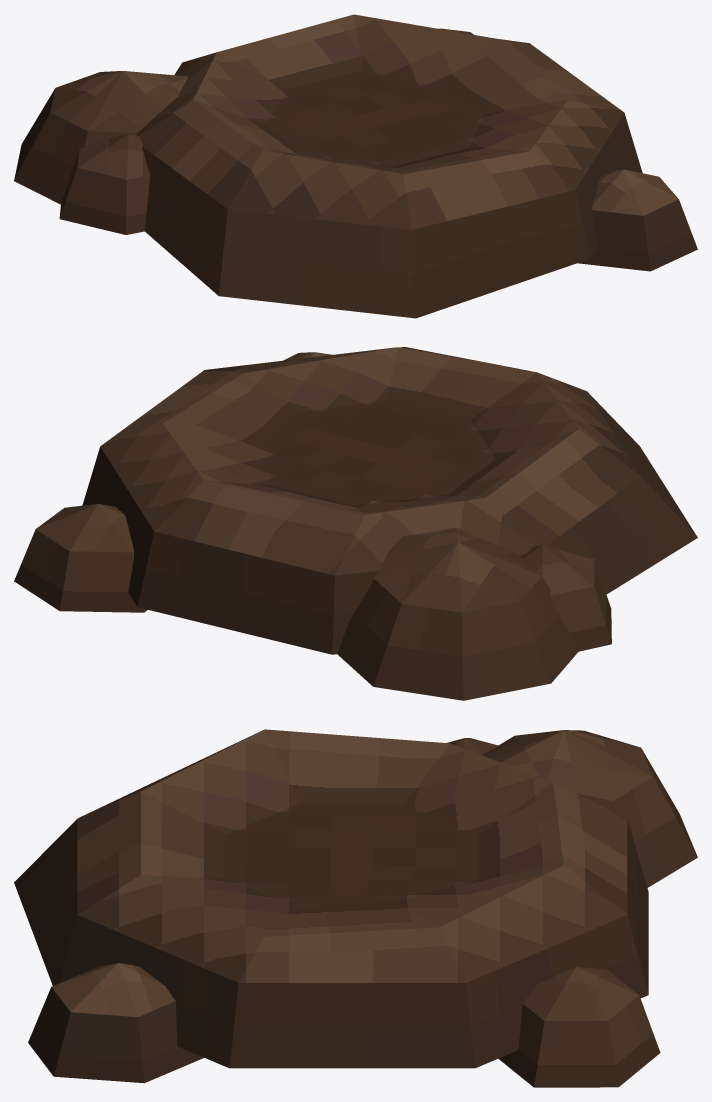
File: crop_hole.fbx
3 views of the same model, one above another, from view 1: azimuth 30°, elevation 25°; view 2: azimuth 150°, elevation 25°; view 3: azimuth 270°, elevation 25° (orthographic). The views are drawn at different scales.
Parts seen in each view (by area): view 1: circle, cylinder, sphere, sphere_2; view 2: circle, cylinder, sphere_1, sphere_2; view 3: circle, sphere, sphere_1, cylinder.
Boxes of the visible parts, left/top/right/bottom form: circle: left=136, top=14, right=642, bottom=318; cylinder: left=14, top=71, right=188, bottom=204; sphere: left=578, top=169, right=697, bottom=271; sphere_2: left=59, top=133, right=150, bottom=234; circle: left=82, top=347, right=697, bottom=654; cylinder: left=337, top=527, right=578, bottom=700; sphere_1: left=14, top=503, right=147, bottom=612; sphere_2: left=522, top=545, right=611, bottom=651; circle: left=14, top=729, right=648, bottom=1068; sphere: left=28, top=963, right=203, bottom=1083; sphere_1: left=498, top=966, right=660, bottom=1087; cylinder: left=482, top=730, right=697, bottom=887.
Bounding box in the file's own units: 98.92 × 23.44 × 101.
1 material, 1 textured.
